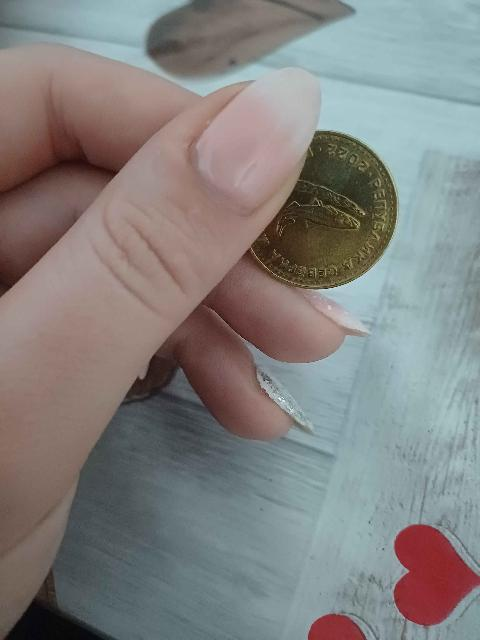2_coin: (251, 131, 397, 288)
